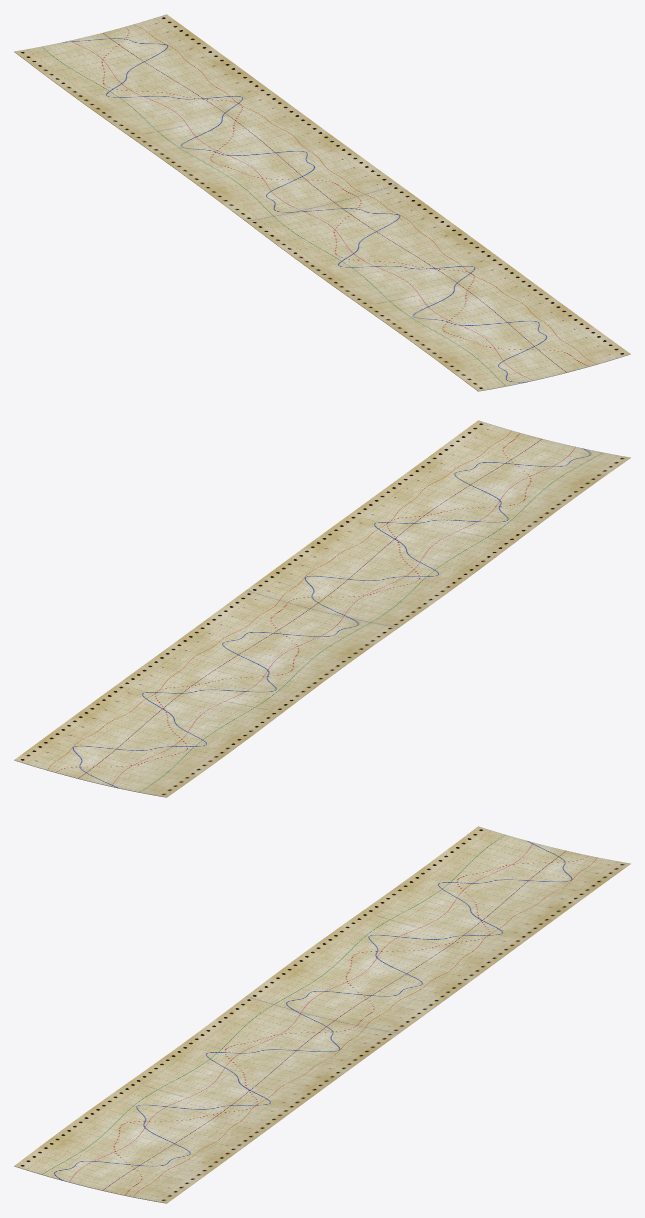
Rendered from ChartPaperSegment_1m.fbx.
3 views of the same model, one above another, from view 1: azimuth 30°, elevation 25°; view 2: azimuth 150°, elevation 25°; view 3: azimuth 330°, elevation 25° (orthographic).
Visible parts, largest first — view 1: ChartPaperSegment_1m_Mesh; view 2: ChartPaperSegment_1m_Mesh; view 3: ChartPaperSegment_1m_Mesh.
Part boxes in pixels (x1,y1,x2,y2): ChartPaperSegment_1m_Mesh: (14,14,630,391); ChartPaperSegment_1m_Mesh: (14,420,630,797); ChartPaperSegment_1m_Mesh: (14,826,630,1203).
Size of the model in its own units: 0.1901 by 0.00553 by 1.
